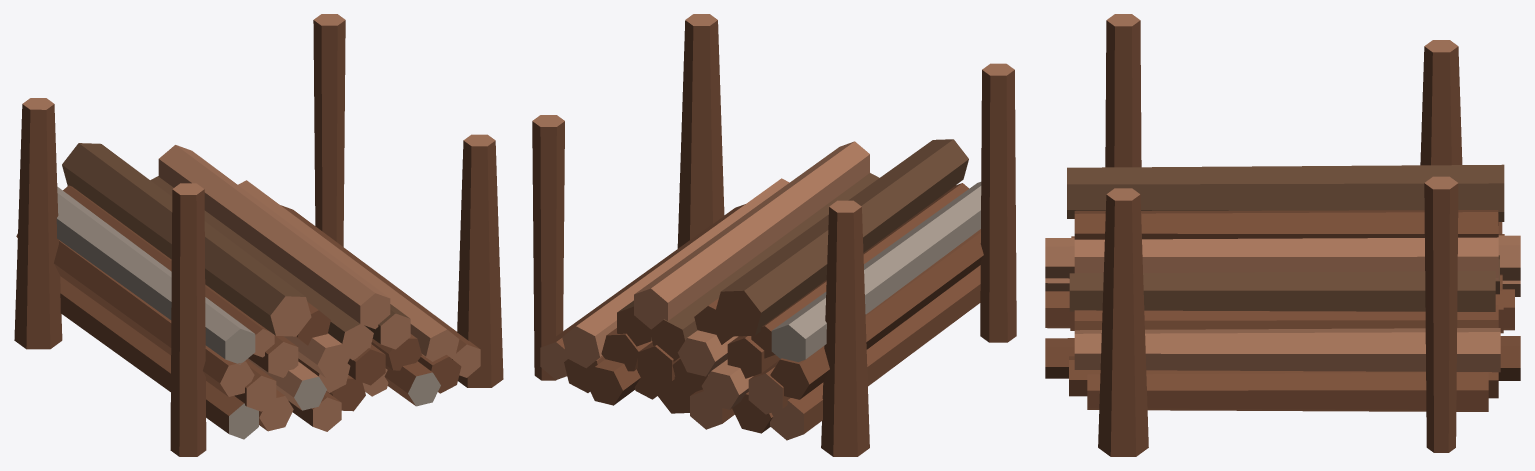
The model's file is toras_empilhadas_pacote.glb.
3 views of the same model, side by side, from view 1: azimuth 30°, elevation 25°; view 2: azimuth 150°, elevation 25°; view 3: azimuth 270°, elevation 25° (orthographic). The views are drawn at different scales.
Visible parts, largest first — view 1: toras_empilhadas_pacote; view 2: toras_empilhadas_pacote; view 3: toras_empilhadas_pacote.
Part boxes in pixels (bbox=[...]): toras_empilhadas_pacote: bbox=[14, 14, 503, 456]; toras_empilhadas_pacote: bbox=[532, 14, 1016, 456]; toras_empilhadas_pacote: bbox=[1045, 14, 1520, 456].
Size of the model in its own units: 2.37 by 1.81 by 2.82.
Materials: 1 (1 with a texture image).
